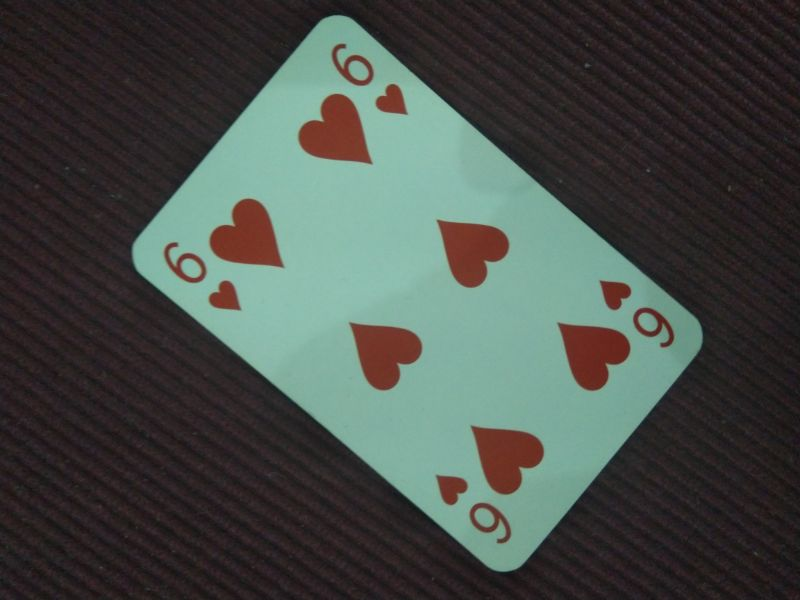6h: (430, 468, 517, 547), (329, 40, 411, 120), (160, 239, 244, 316), (596, 275, 678, 350)
